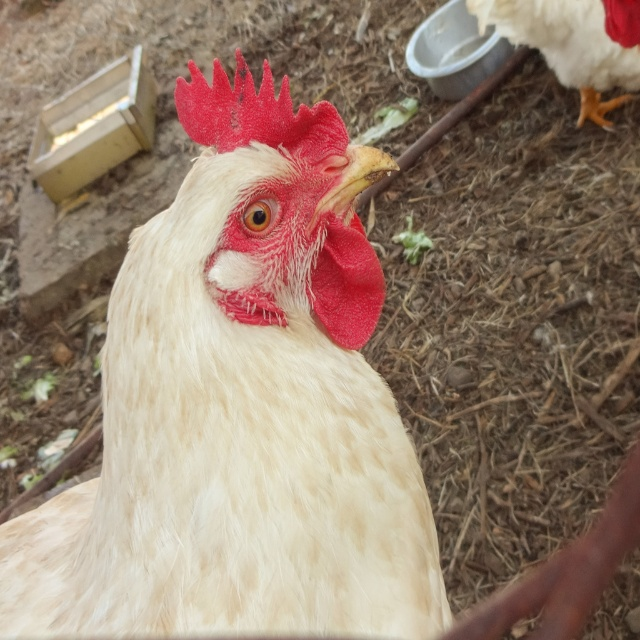Chicken: (0, 46, 454, 640), (461, 0, 640, 133)
